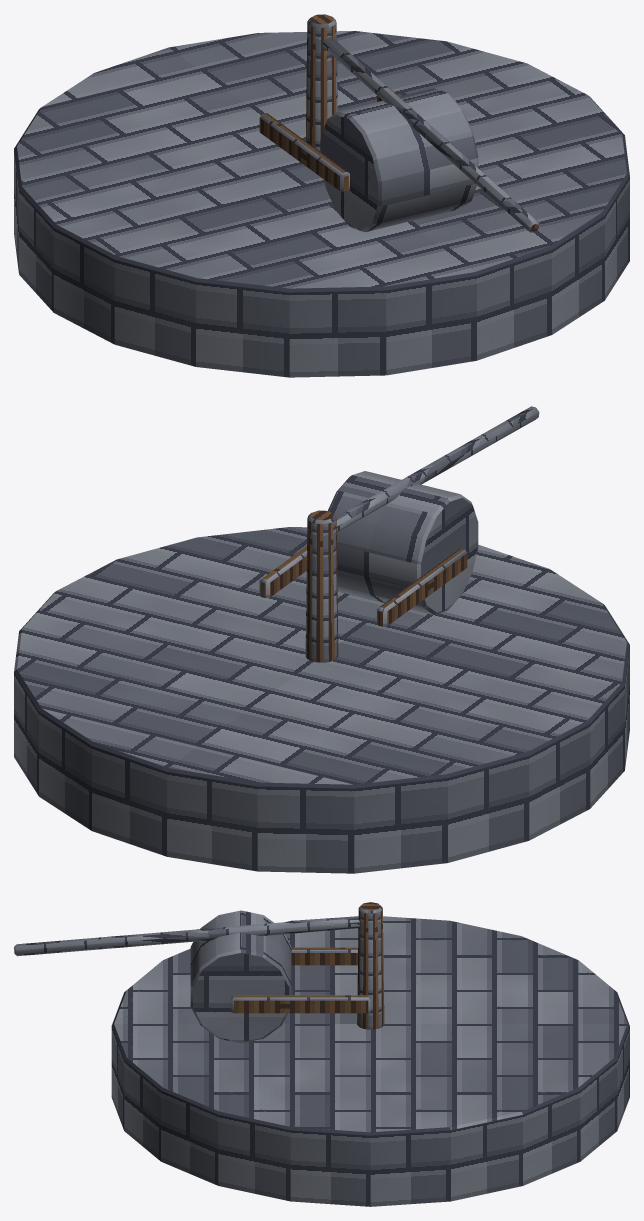
Rendered from cn_stone_mill_1.glb.
The picture shows the model from 3 angles, top to bottom: view 1: azimuth 30°, elevation 25°; view 2: azimuth 150°, elevation 25°; view 3: azimuth 270°, elevation 25°; orthographic projection. The views are drawn at different scales.
Visible parts, largest first — view 1: cn_stone_mill_2; view 2: cn_stone_mill_2; view 3: cn_stone_mill_2.
Part boxes in pixels (box(x1,y1,x2,y2)): cn_stone_mill_2: box(14, 14, 629, 377); cn_stone_mill_2: box(14, 406, 629, 873); cn_stone_mill_2: box(14, 902, 629, 1206).
Bounding box in the file's own units: 3.2 × 1.3 × 3.8.
Materials: 2 (2 with a texture image).
